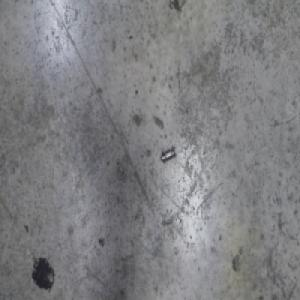Bolt: (160, 146, 176, 165)
